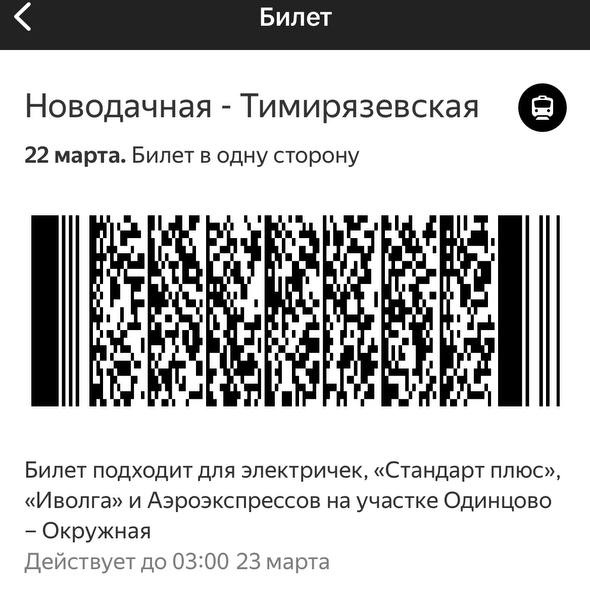2d: (28, 213, 562, 407)
